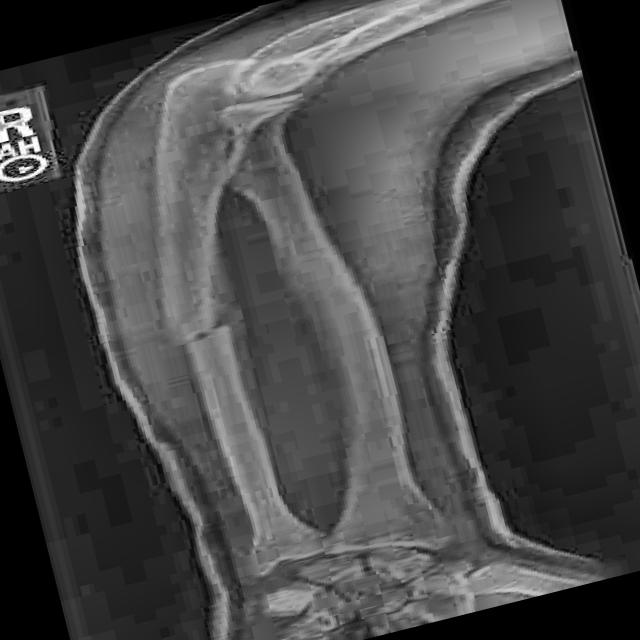forearm fracture: (124, 280, 308, 401)
